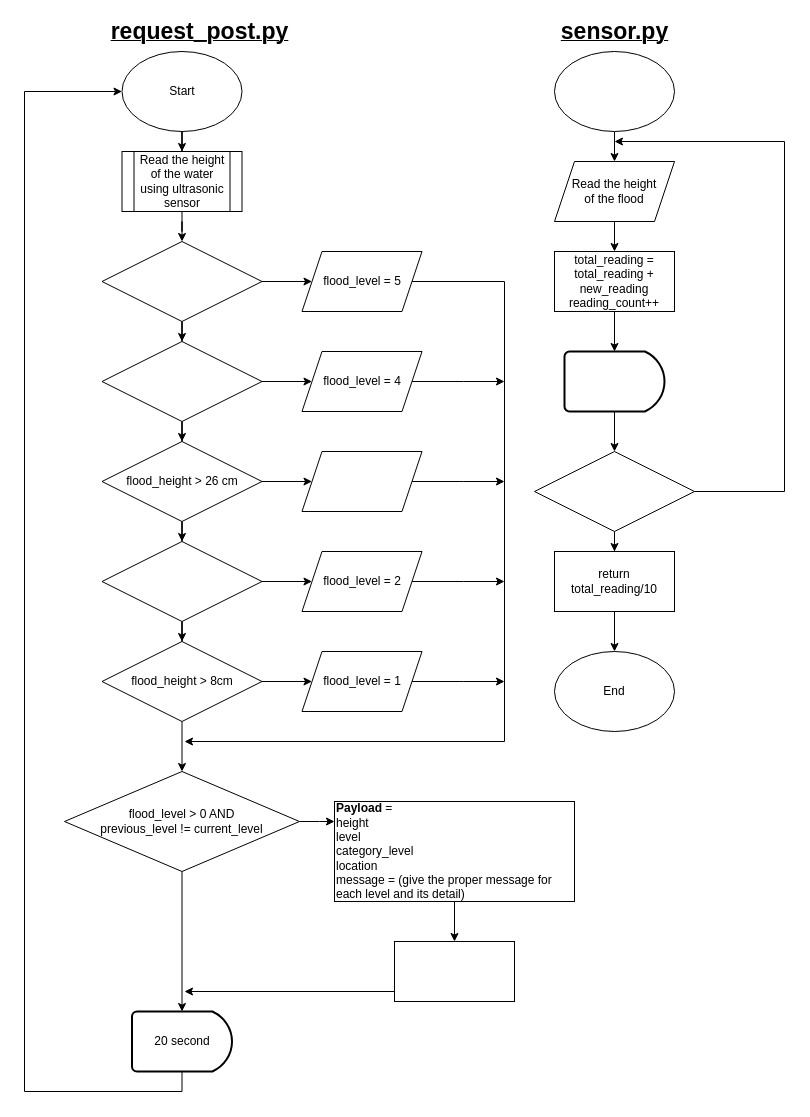
This 810x1117 diagram has some shape labels left out. Here are the shapes that lost their labels. From the top down, the box of each, then its label:
(554, 50, 674, 132): Reading of ultrasonic sensor
(101, 240, 262, 322): flood_height > 45 cm
(101, 340, 262, 422): flood_height > 37 cm
(563, 350, 665, 412): 1 second
(301, 450, 422, 512): flood_level = 3
(534, 450, 694, 532): reading_count > 10
(101, 540, 262, 622): flood_height > 19 cm
(394, 940, 514, 1002): Send the payload to the webserver using our custom API
